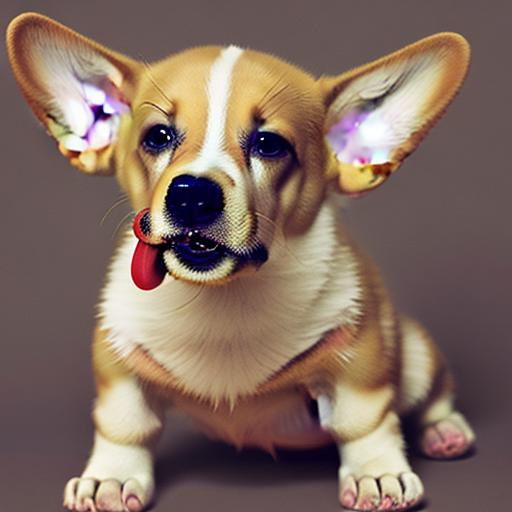eye: (246, 122, 297, 165), (135, 120, 186, 154)
